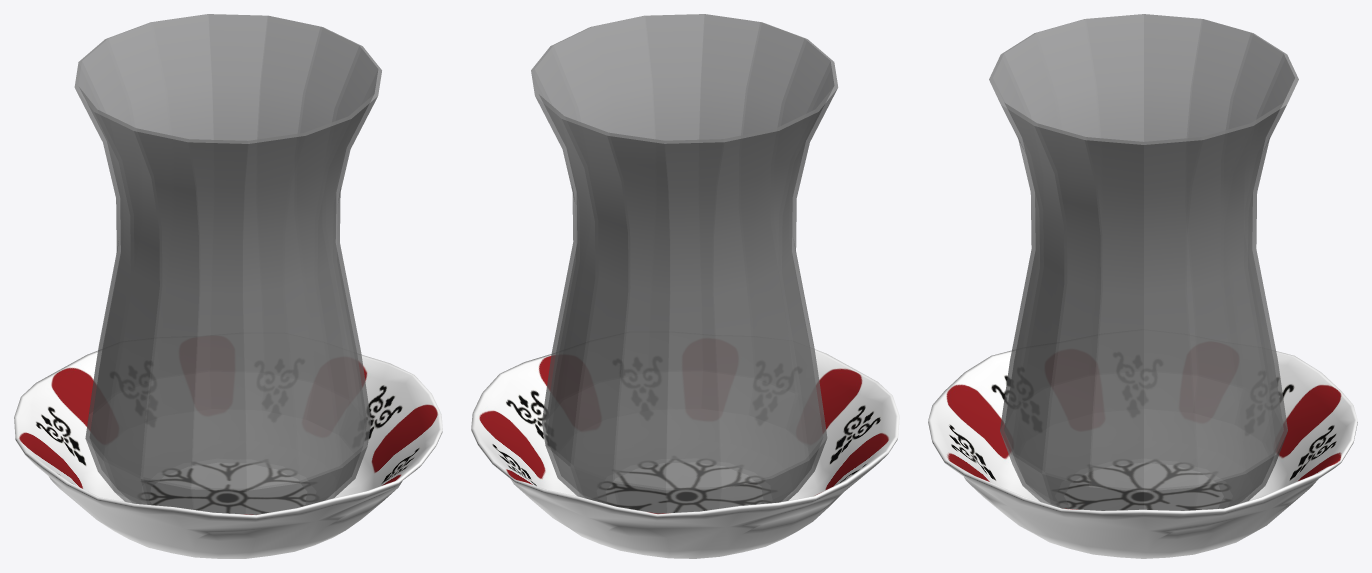
File: Oralets(empty).fbx
3 views of the same model, side by side, from view 1: azimuth 30°, elevation 25°; view 2: azimuth 150°, elevation 25°; view 3: azimuth 270°, elevation 25° (orthographic).
Parts seen in each view (by area): view 1: TeaGlass, TeaGlassCoater; view 2: TeaGlass, TeaGlassCoater; view 3: TeaGlass, TeaGlassCoater.
Boxes of the visible parts, bbox=[...] form: TeaGlass: bbox=[74, 14, 381, 514]; TeaGlassCoater: bbox=[14, 349, 442, 558]; TeaGlass: bbox=[531, 14, 838, 513]; TeaGlassCoater: bbox=[471, 348, 899, 558]; TeaGlass: bbox=[989, 14, 1298, 510]; TeaGlassCoater: bbox=[928, 350, 1357, 558].
Size of the model in its own units: 51.36 by 56.79 by 51.36.
Materials: 2 (1 with a texture image).
